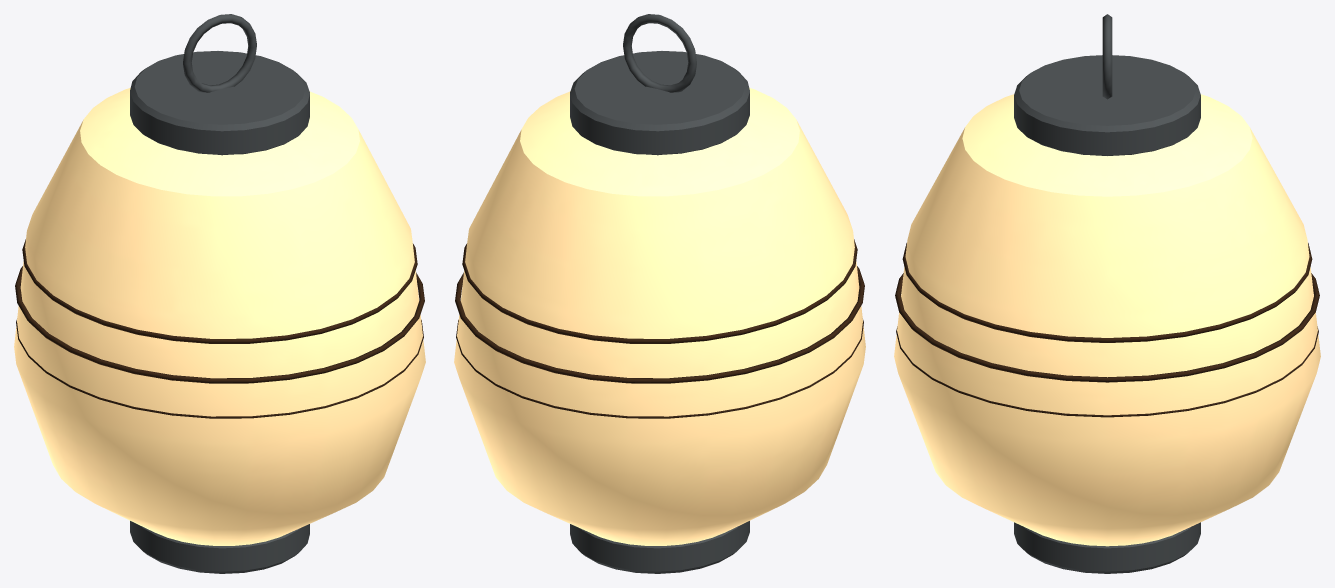
The model's file is lantern.glb.
3 renders of one model, left to right at view 1: azimuth 30°, elevation 25°; view 2: azimuth 150°, elevation 25°; view 3: azimuth 270°, elevation 25°, orthographic.
Parts seen in each view (by area): view 1: lantern; view 2: lantern; view 3: lantern.
Boxes of the visible parts, x1,y1,x2,y2 form: lantern: (14,14,425,573); lantern: (454,14,865,573); lantern: (894,14,1320,573).
Size of the model in its own units: 0.2472 by 0.35 by 0.26.
3 materials, 2 textured.
